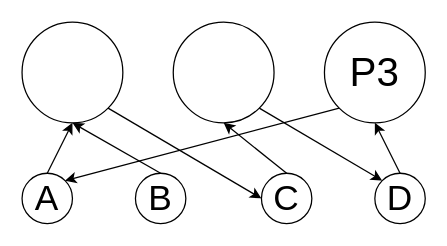
The diagram is 447 pixels wide and 246 high, and some of its shapes have lost their labels. Each missing label, with the centre of its shape:
"P1" goes at (x=72, y=72).
"P2" goes at (x=223, y=72).
